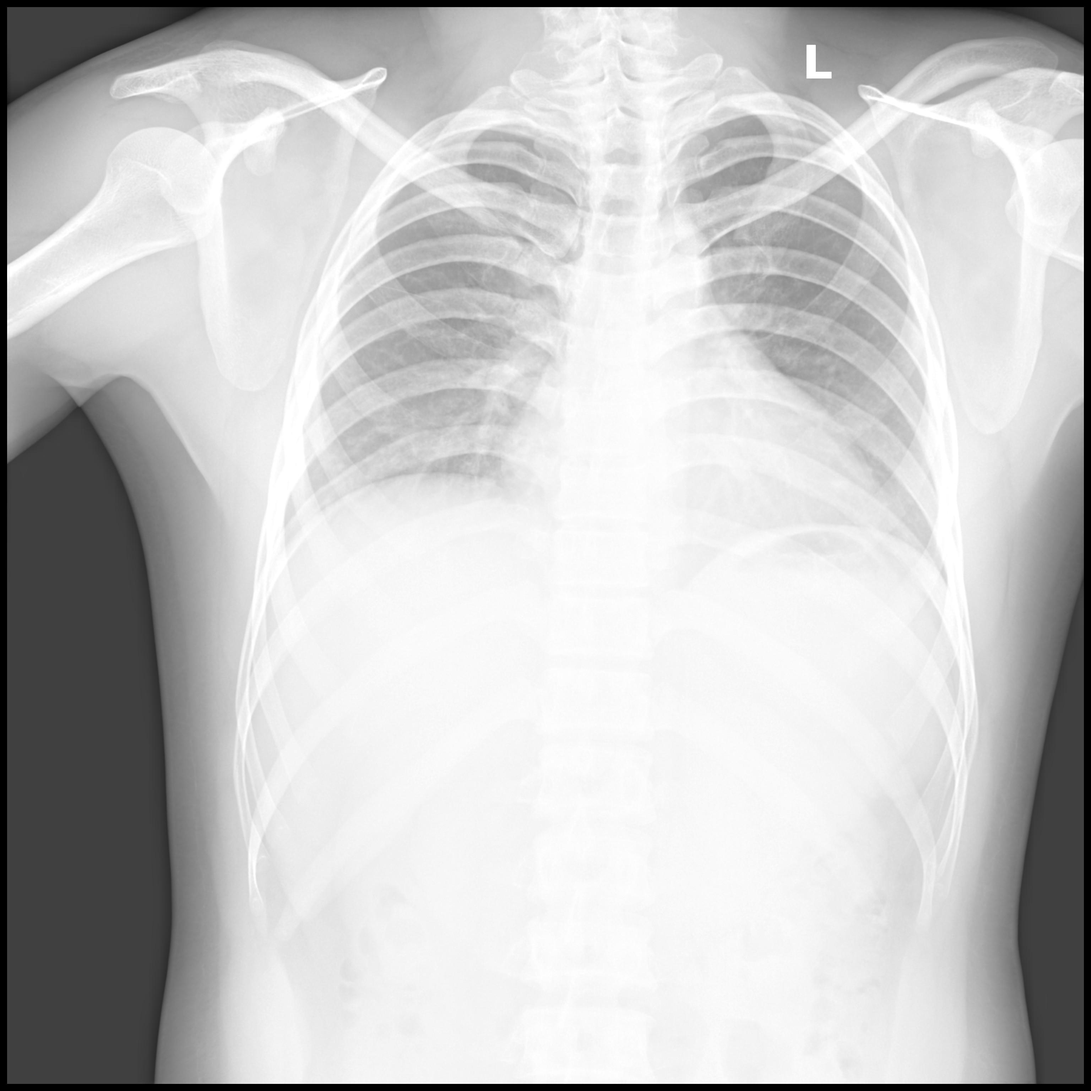Cardiomegaly: (494, 420, 890, 544)
